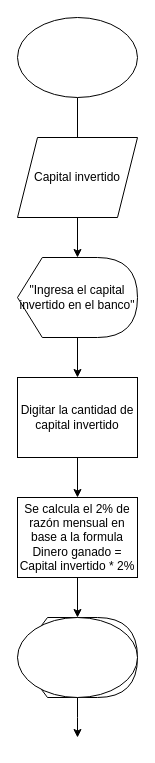
Some shapes in this 155 by 763 pixel diagram are drawn without their labels. The shapes that lost their labels are listed below. From the top down, each one's centre as x and y in pixels, then its label:
At pixel 77 57: "Inicio".
At pixel 77 657: "Fin".
